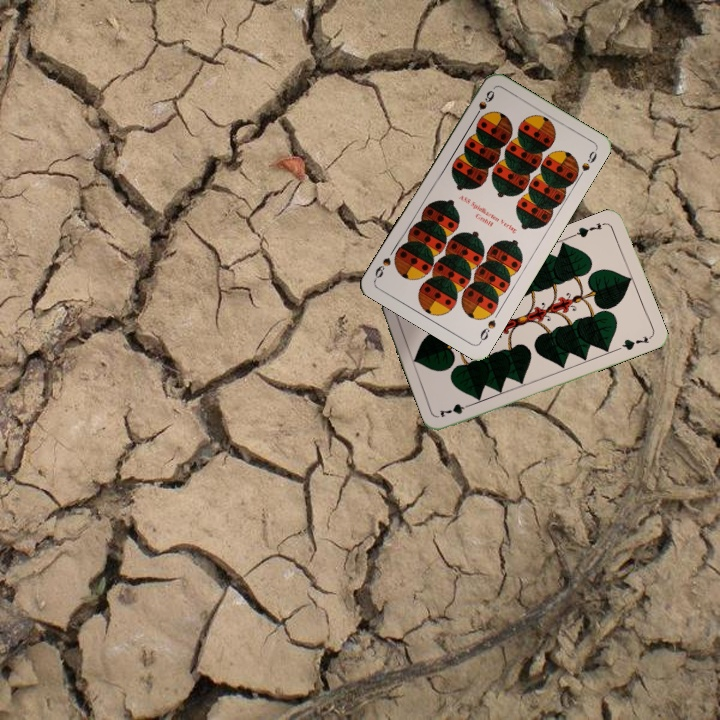G7: (569, 218, 609, 240), (435, 399, 476, 420)
S9: (470, 86, 497, 122), (475, 315, 499, 346)
